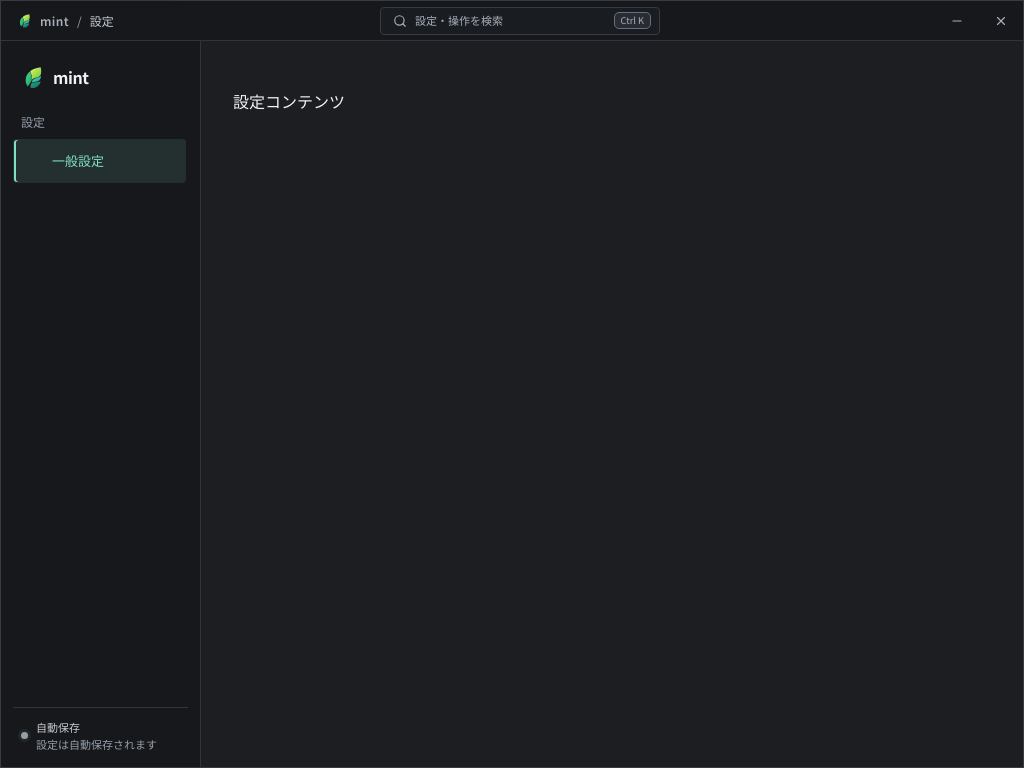
Test case: AppShell › surfaces a successful quick action in recent results
Press k
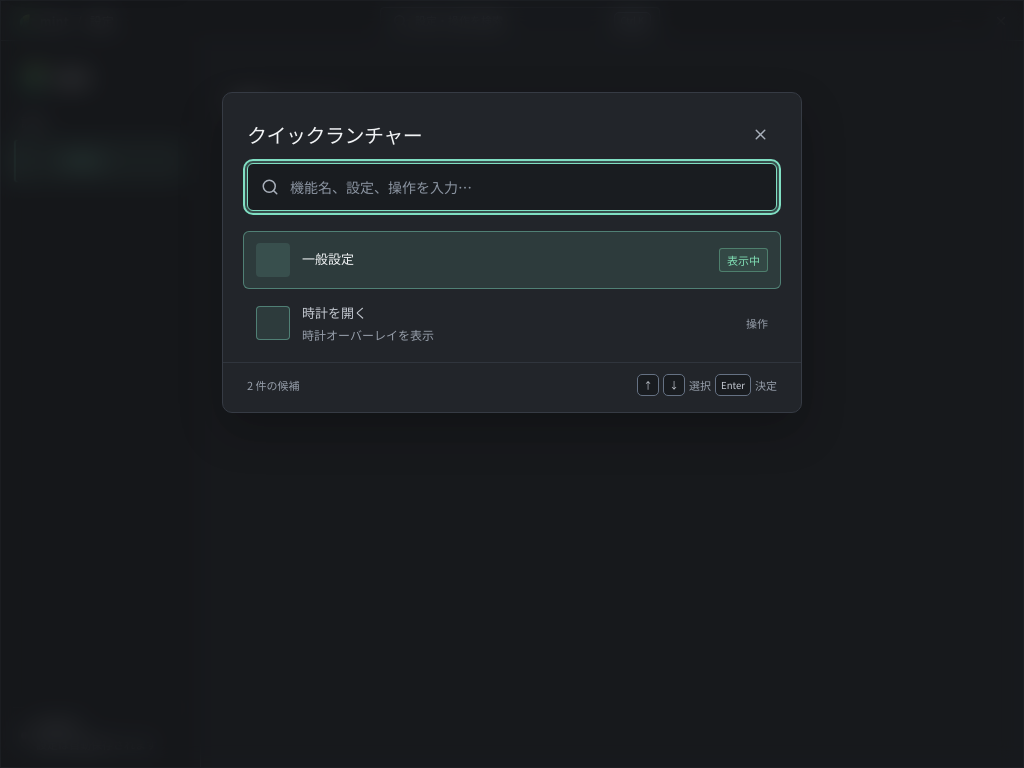
Click the option "時計を開く 時計オーバーレイを表示 操作" at (273, 323), box [243,293,781,354]
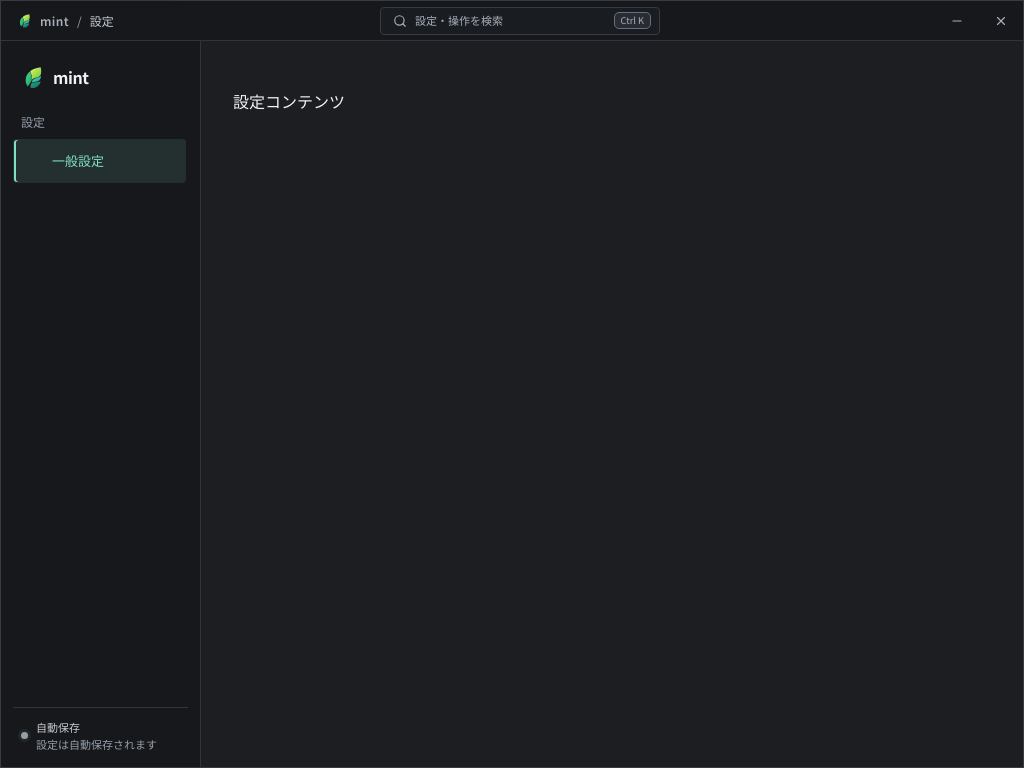
Check: the heading "クイックランチャー" is gone
Press k
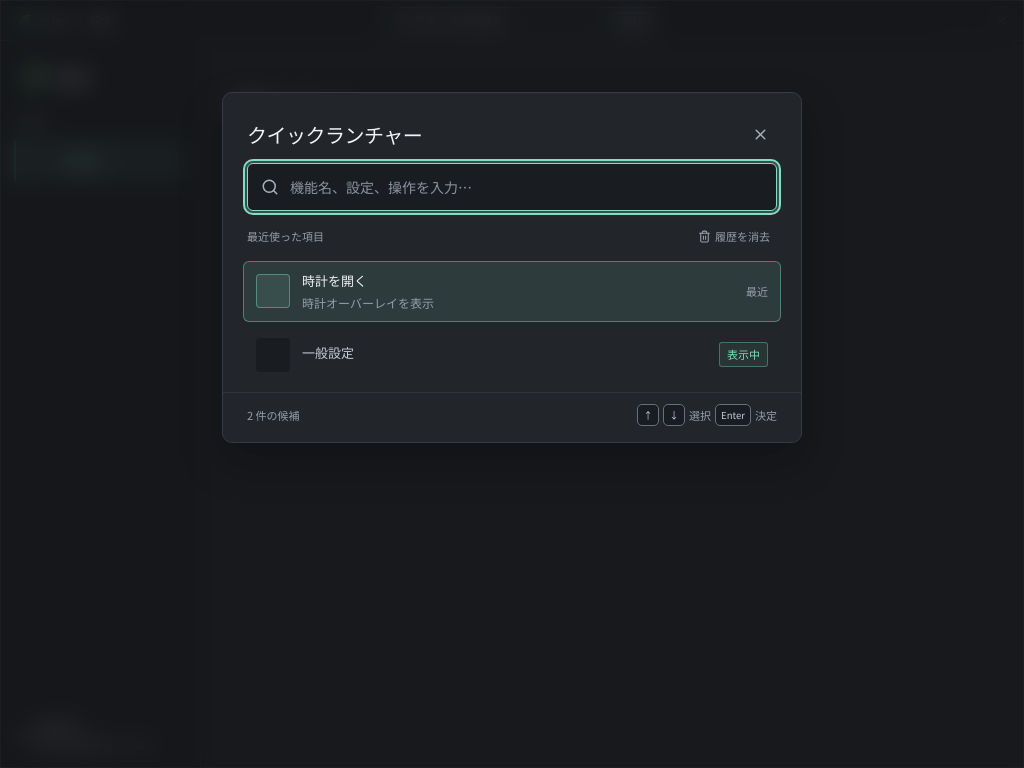
Check: the text "最近使った項目" is shown, box [247,228,324,244]
Check: the option "時計を開く 時計オーバーレイを表示 最近" is shown, box [243,261,781,322]
